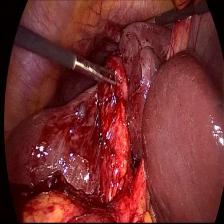Grasper: (72, 50, 118, 92)
